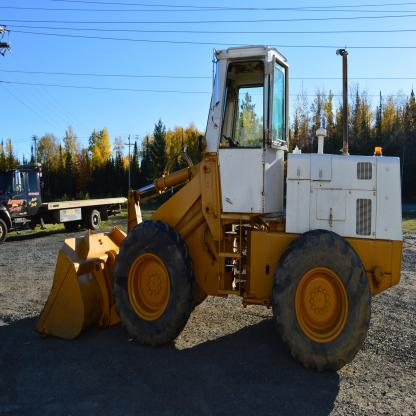bull_dozer/loader/grader: (35, 34, 409, 393)
